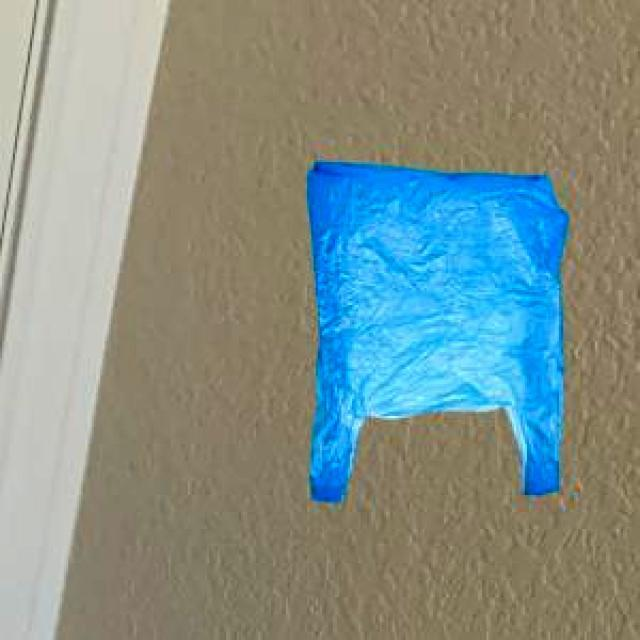Plastic_Bag: (304, 159, 564, 498)
